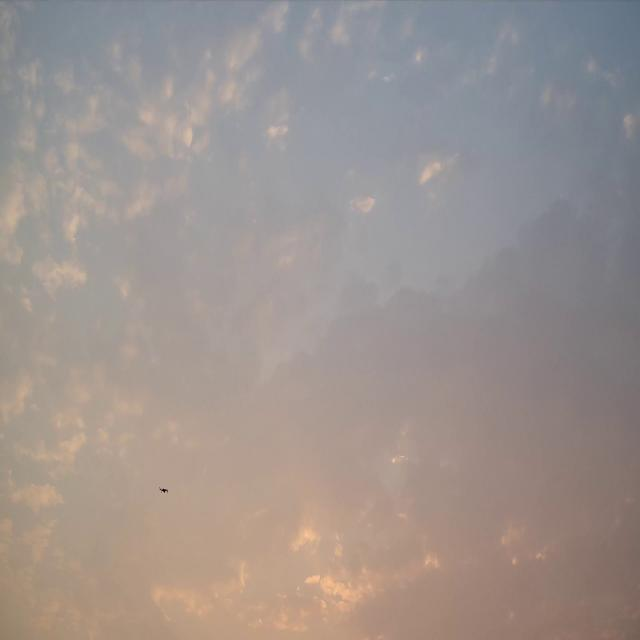drone: (158, 486, 170, 494)
